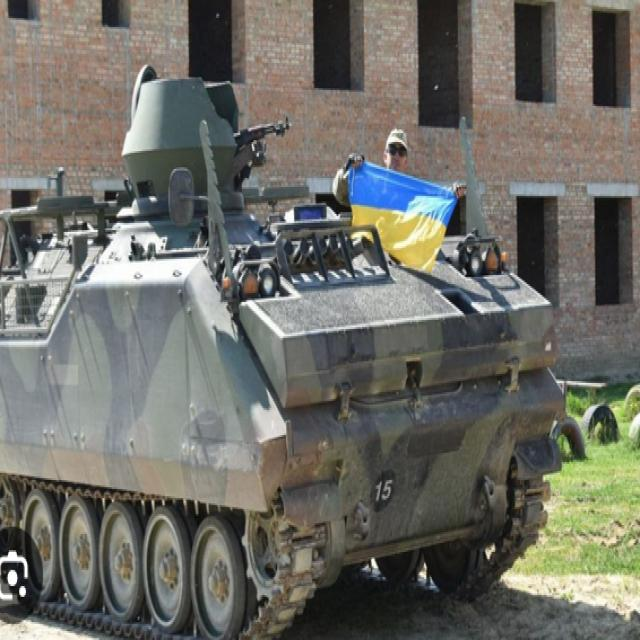MIL_APC: (0, 88, 559, 624)
